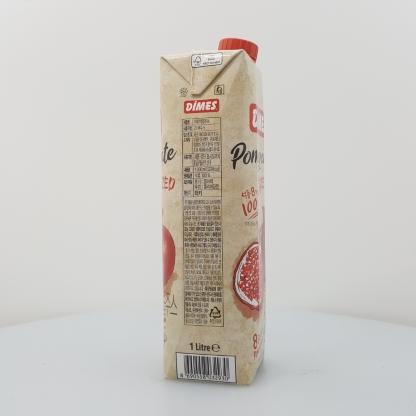DIMES------1000ML: (160, 38, 266, 385)
